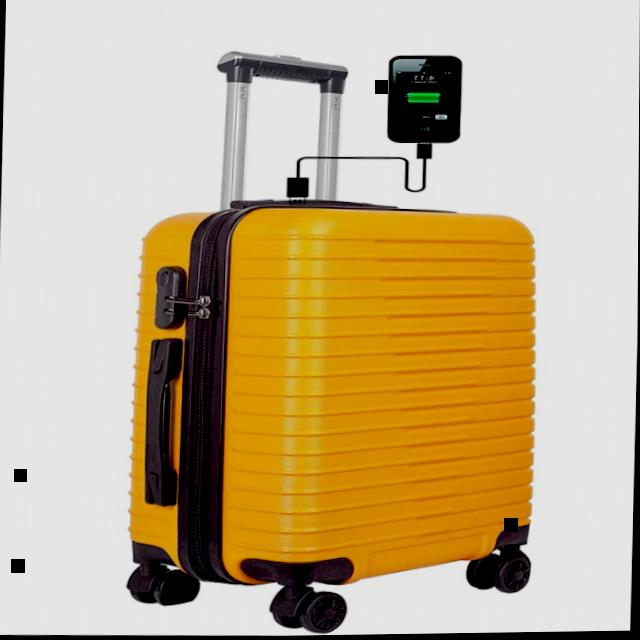luggage: (114, 186, 547, 601)
